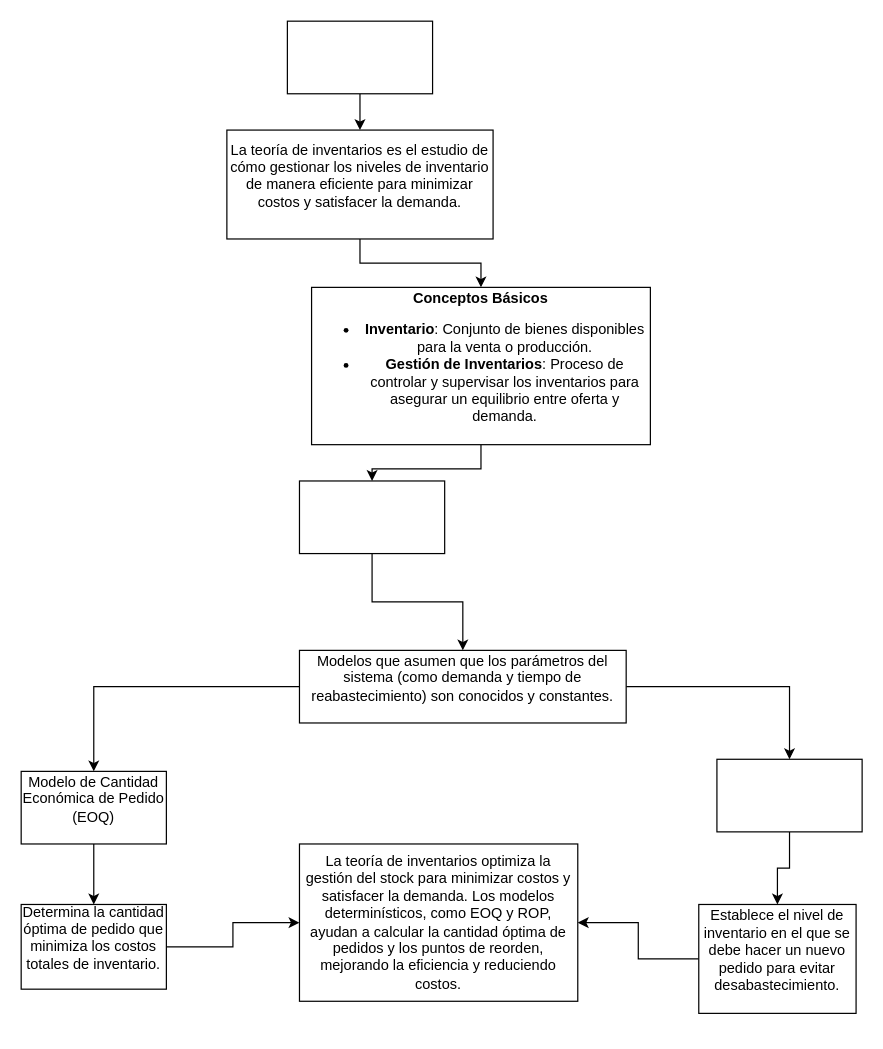
Image size: 883x1049. Some labels were removed from this diagram. Each missing label, with the box of its shape:
Modelo de Reorden: (716, 758, 862, 832)
Modelo deterministico: (298, 480, 445, 554)
Teoria de Inventarios: (286, 20, 433, 94)
